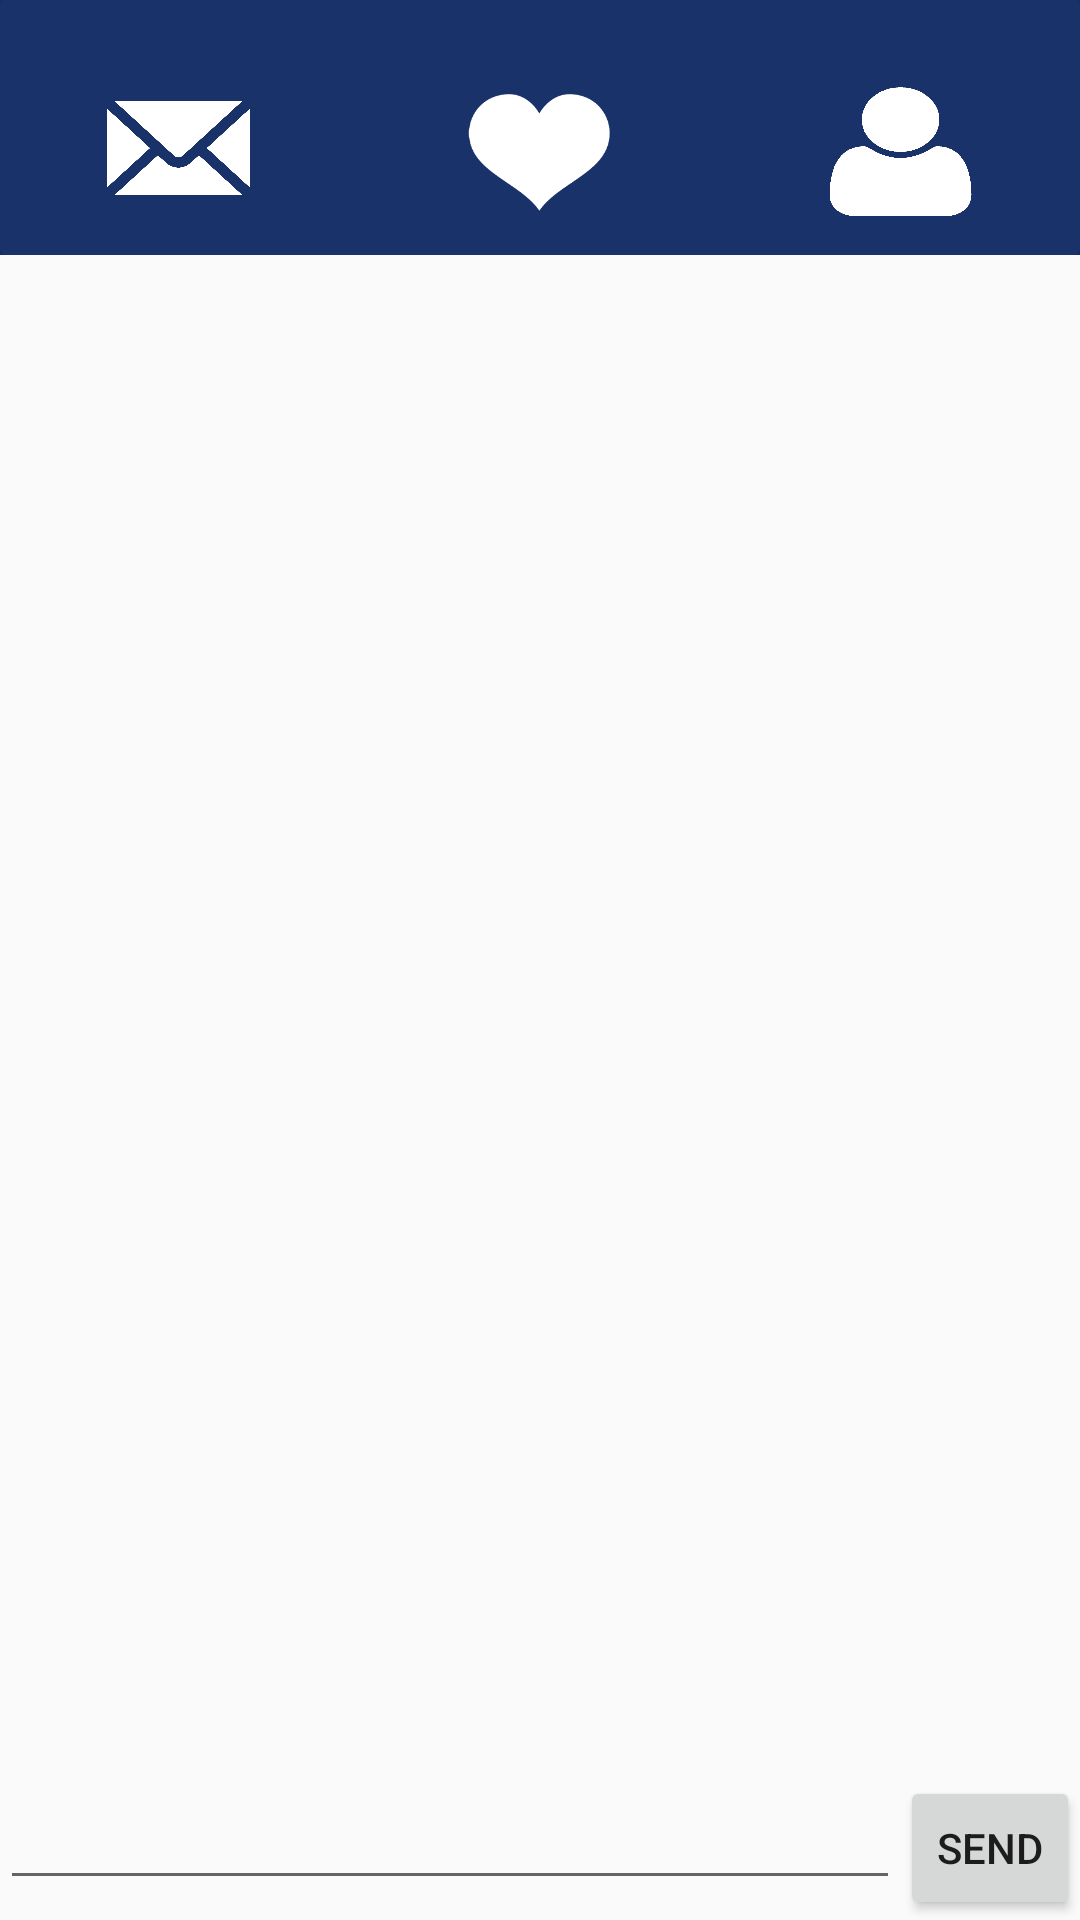

Point at icon controls on the screen. Image size 1080px x 1920px, points as [x,y].
heart: [539,152]
mail: [178,148]
usericon: [901,151]
